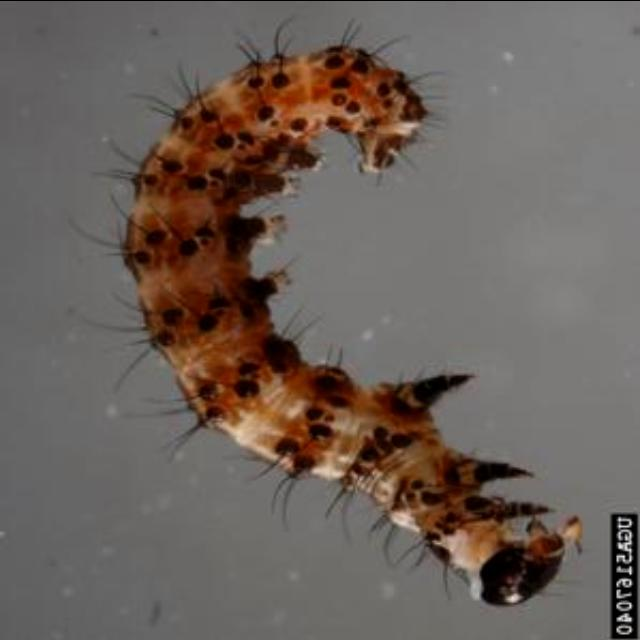Cotton bollworm: (49, 32, 609, 616)
